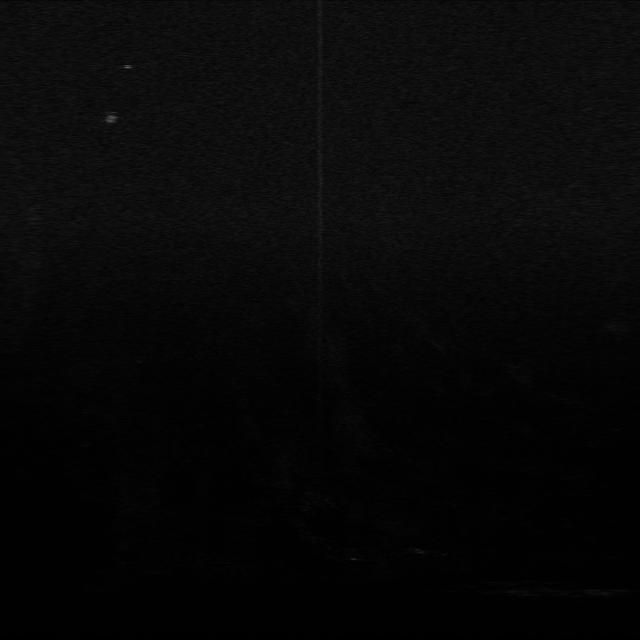rov: (100, 107, 126, 130)
